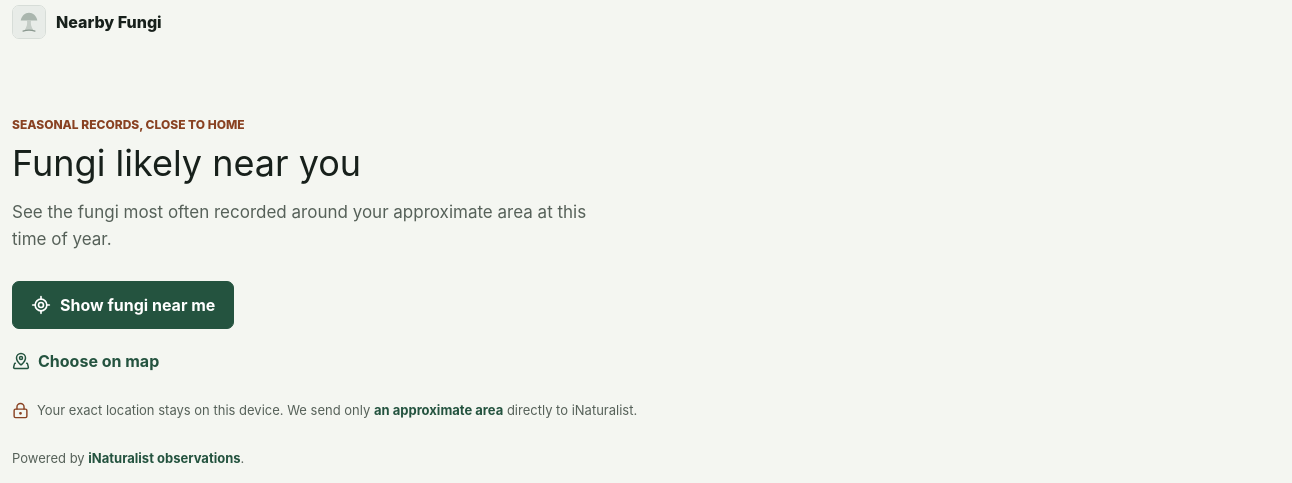
Test: LocationExperience › offers map recovery when location is unsupported
Click the button "Show fungi near me".
click(123, 305)  # box x1=12 y1=281 x2=234 y2=329
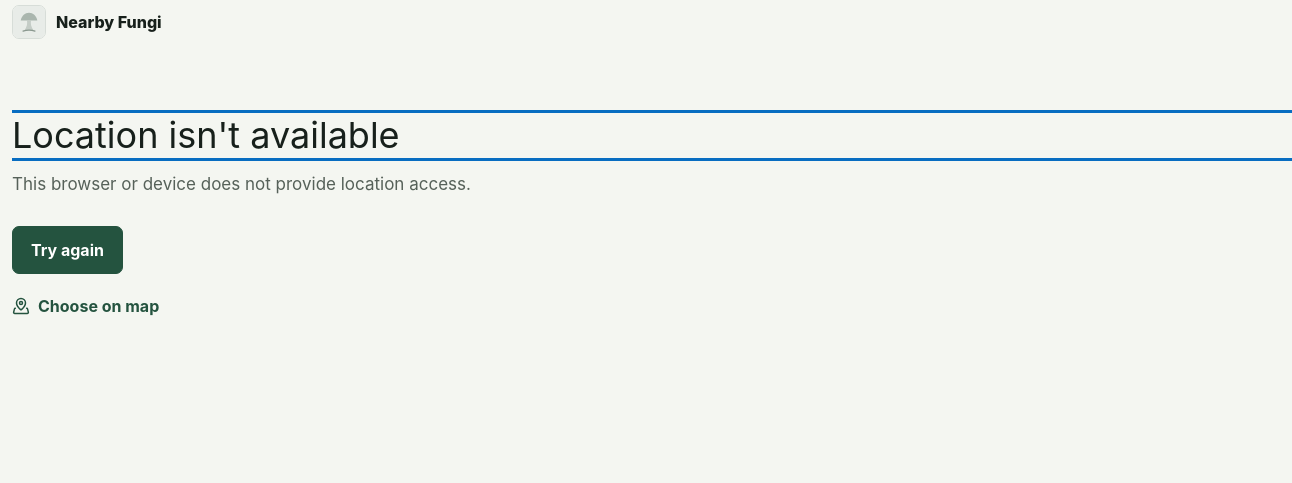
Expected: the heading "Location isn't available" is shown, x1=12 y1=113 x2=400 y2=157
